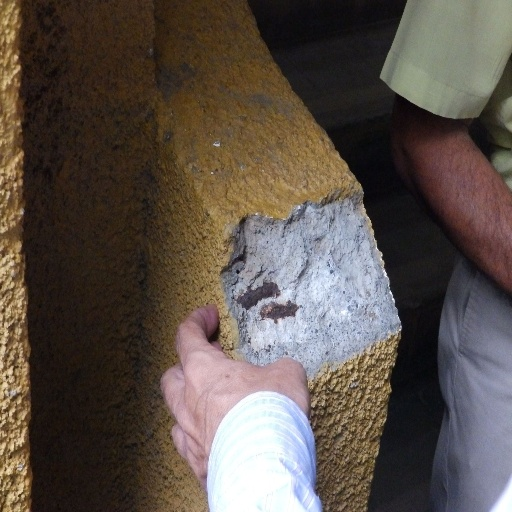hand: (157, 302, 311, 493)
